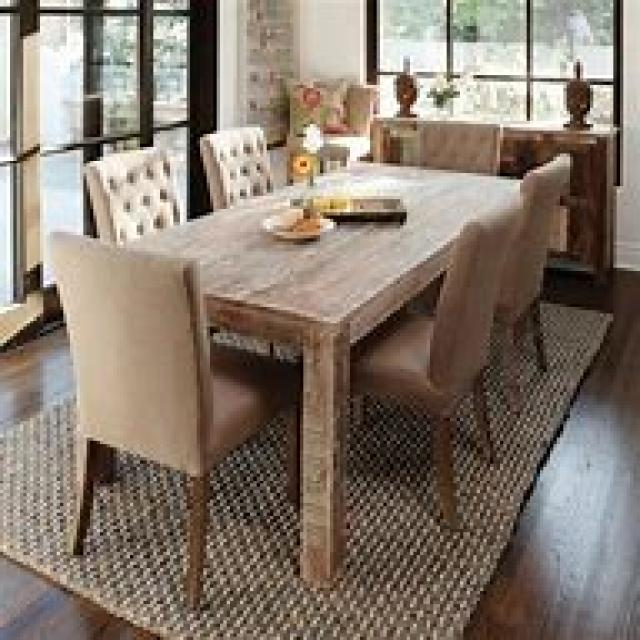chair: (43, 228, 300, 608)
table: (117, 156, 523, 584)
